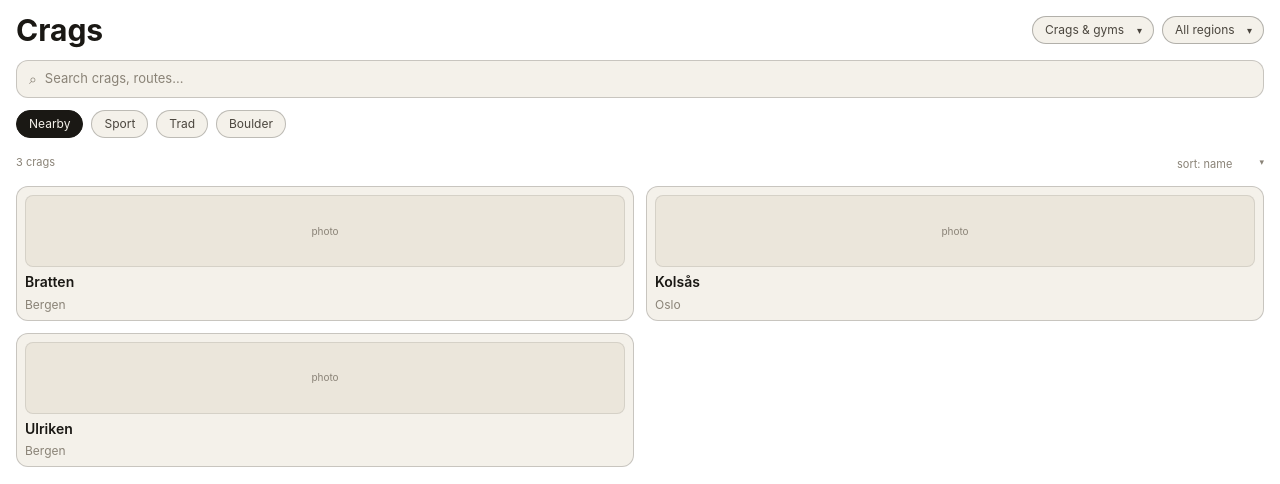
AreasList region filter and sort › offers the unique regions from the data and filters on selection
Select "Bergen" in the dropdown named "Filter by region": (1213, 30) [1162,16,1264,44]
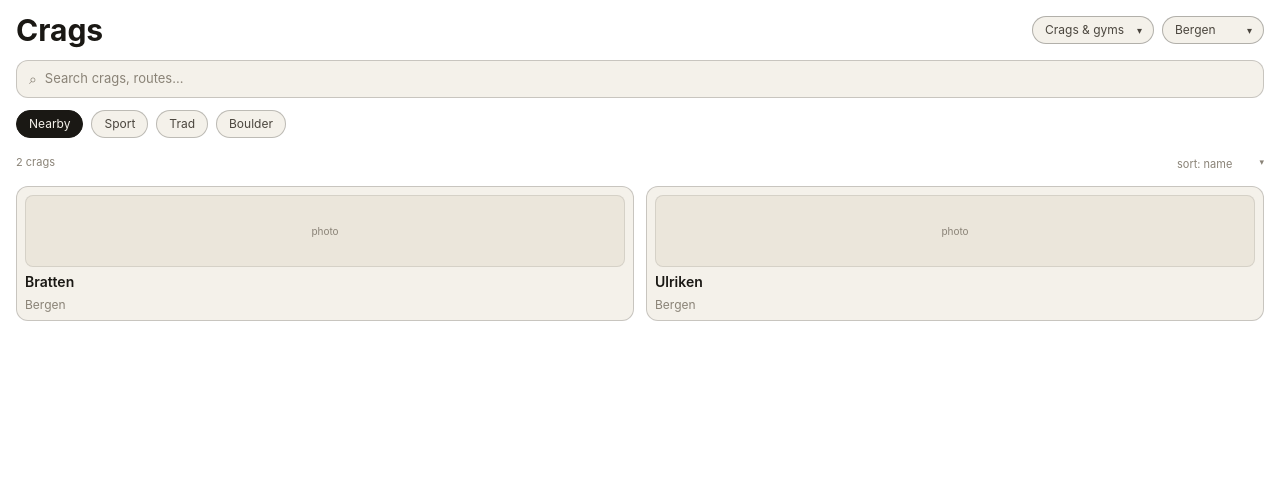
expect the text "Ulriken" is shown: met, box [655,273,703,290]
expect the text "Kolsås" is gone: met
expect the text "2 crags" is shown: met, box [16,154,55,170]
